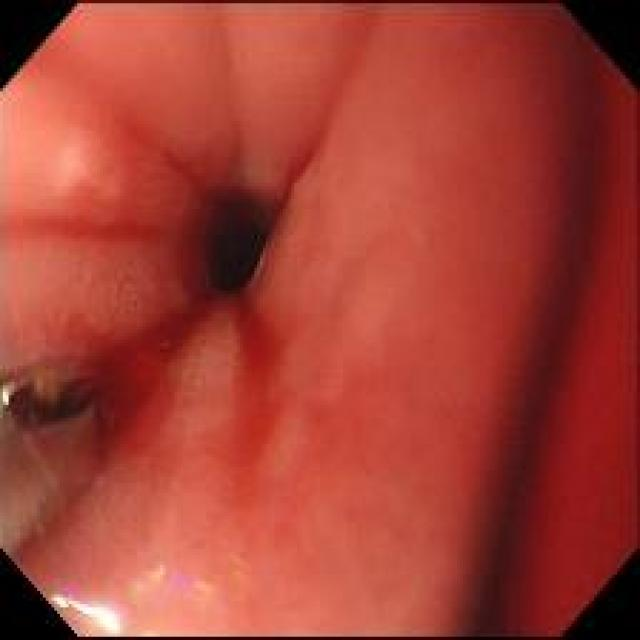blood: (113, 302, 212, 414), (232, 297, 277, 360)
color misalignment: (146, 557, 221, 601)
contrast: (202, 206, 268, 304)
instrument: (2, 368, 111, 549)
specularity: (51, 592, 126, 630), (2, 384, 12, 411)
